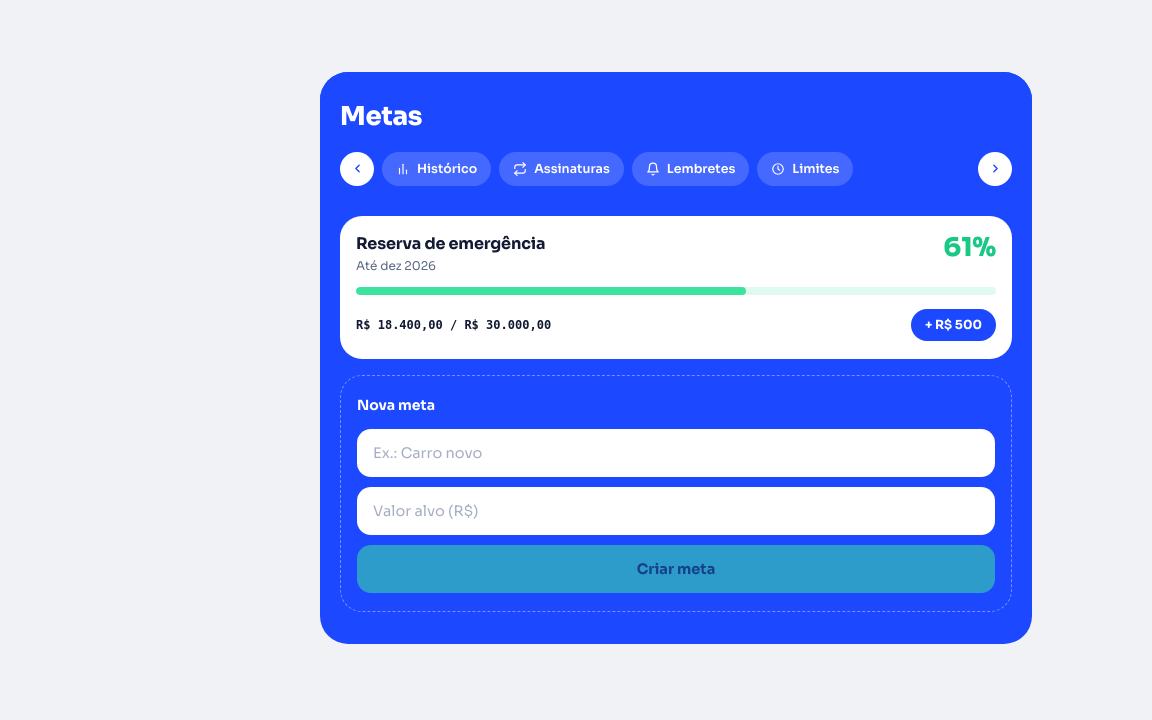
Metas — depositar › "+ R$ 500" abre o depósito já com 500, e confirmar soma ao que já foi guardado
The width and height of the screenshot is (1152, 720).
Click the button named "depositar na meta reserva de emergência": (953, 325) [911,309,996,341]
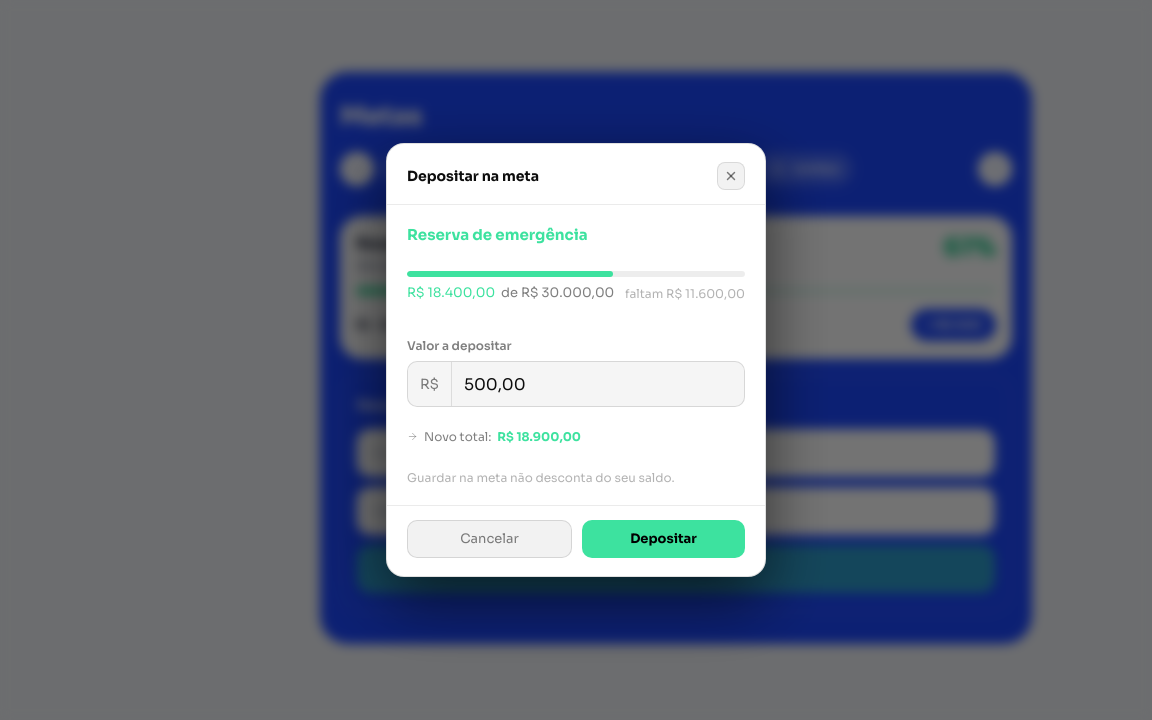
Check: the field with placeholder "0,00" holds "500,00", box [452,362,744,406]
Click the button "Depositar": (664, 539) [582,520,745,558]
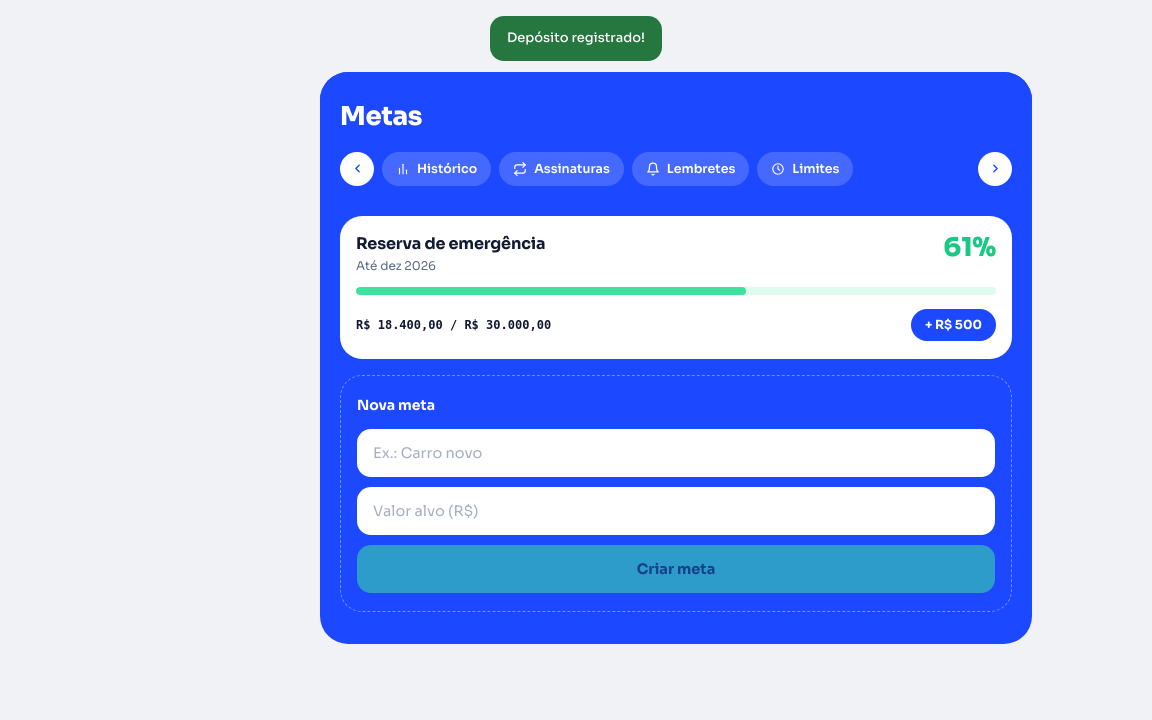
Check: the text "Depósito registrado!" is shown, box [490,16,662,61]
